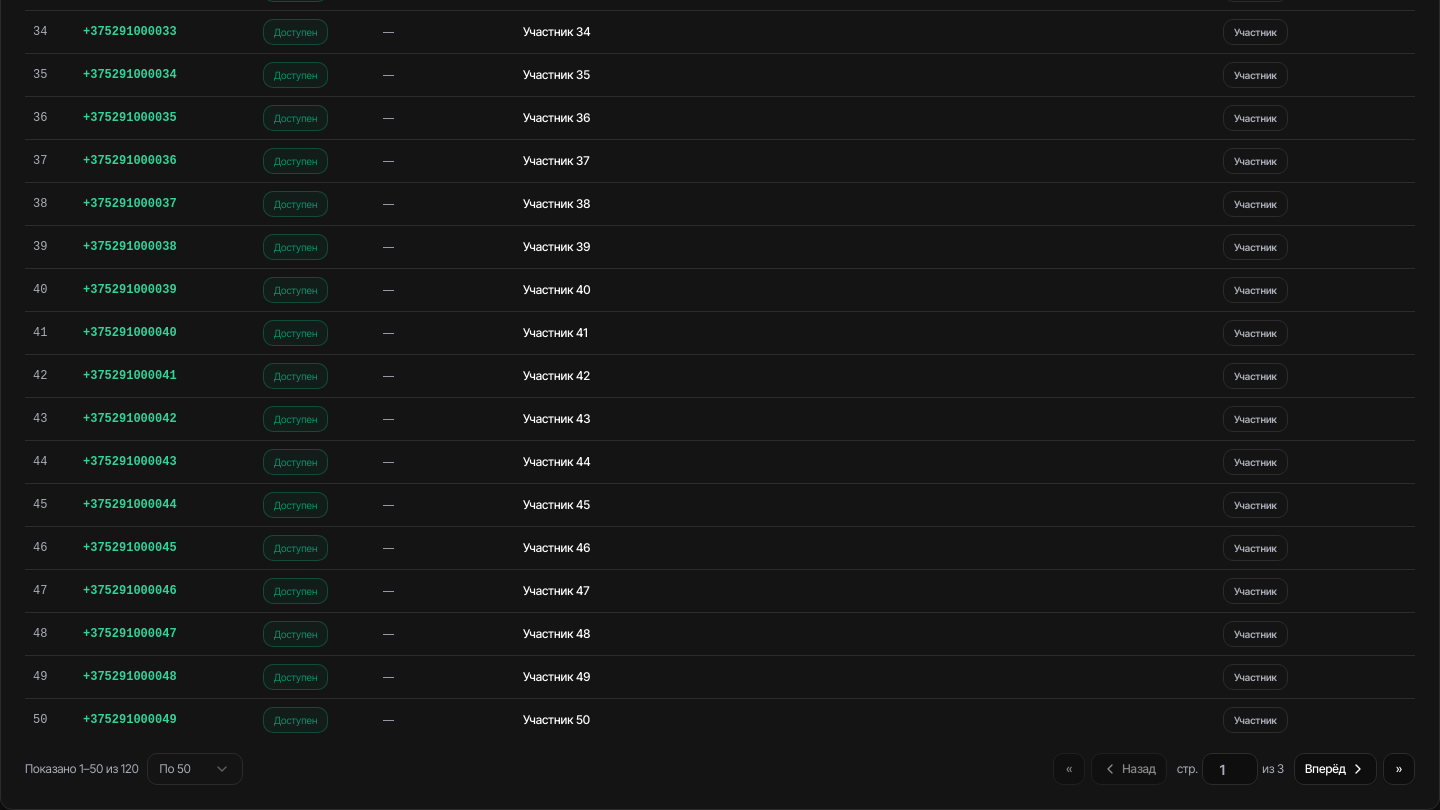
Scenario: пагинация участников › «Вперёд» и «Назад» переключают страницы
(page scrolled)
Step 1. Click the button "Вперёд" → coordinates (1336, 769), box [1294, 753, 1377, 785]
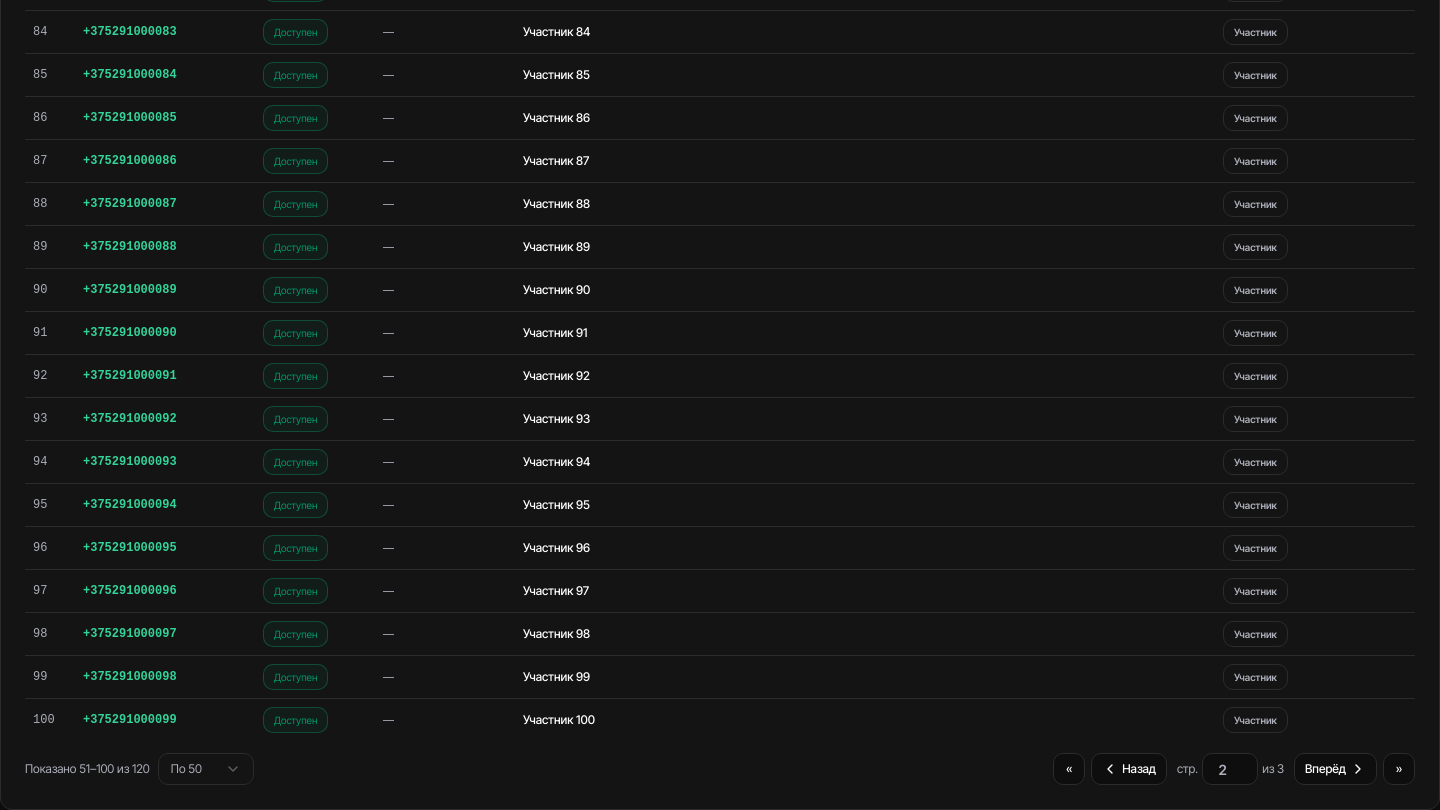
Expected: the text "Показано 51–100 из 120" is shown, [25, 761, 150, 777]
Step 2. Click the button "Назад" → coordinates (1129, 769), box [1091, 753, 1167, 785]
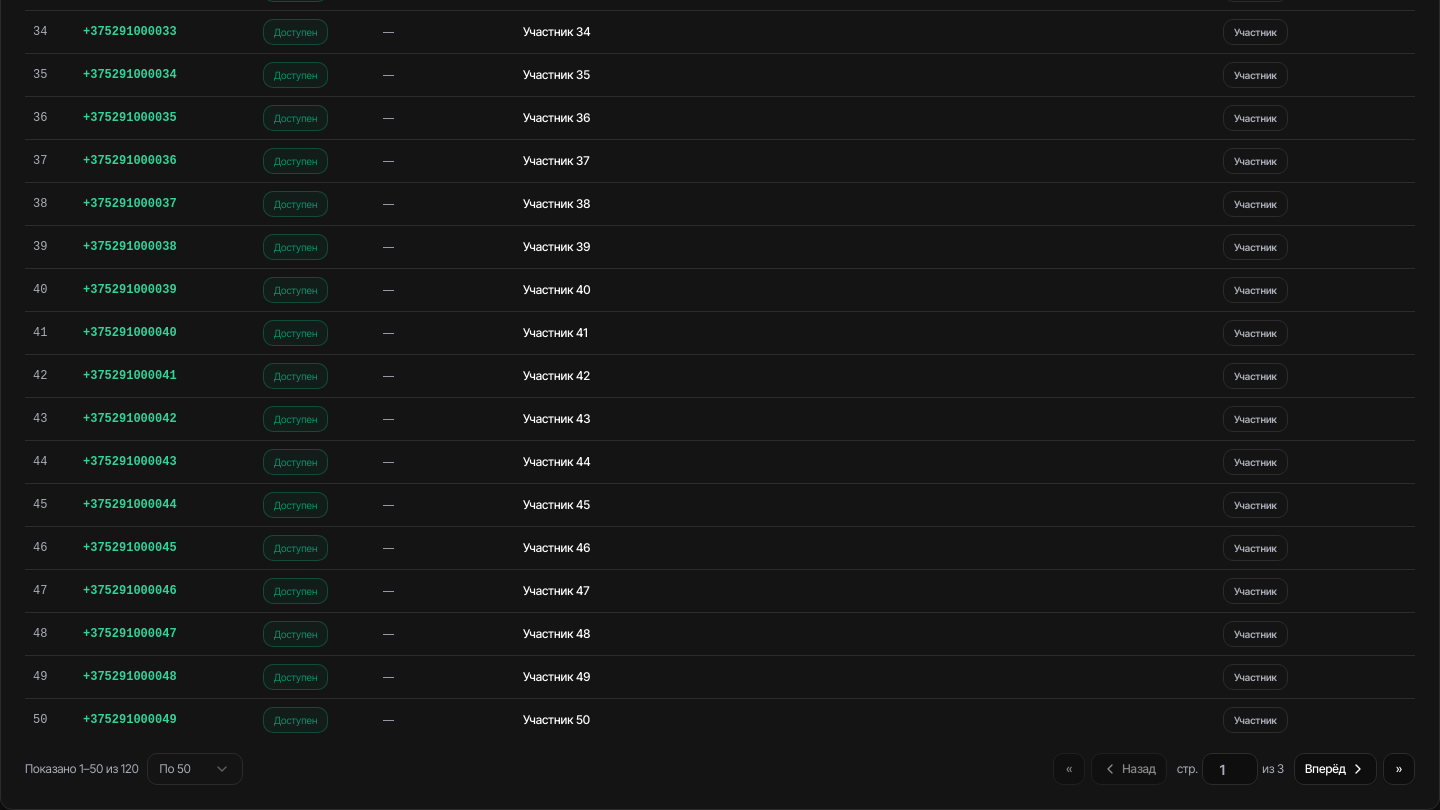
Expected: the text "Показано 1–50 из 120" is shown, [25, 761, 139, 777]
